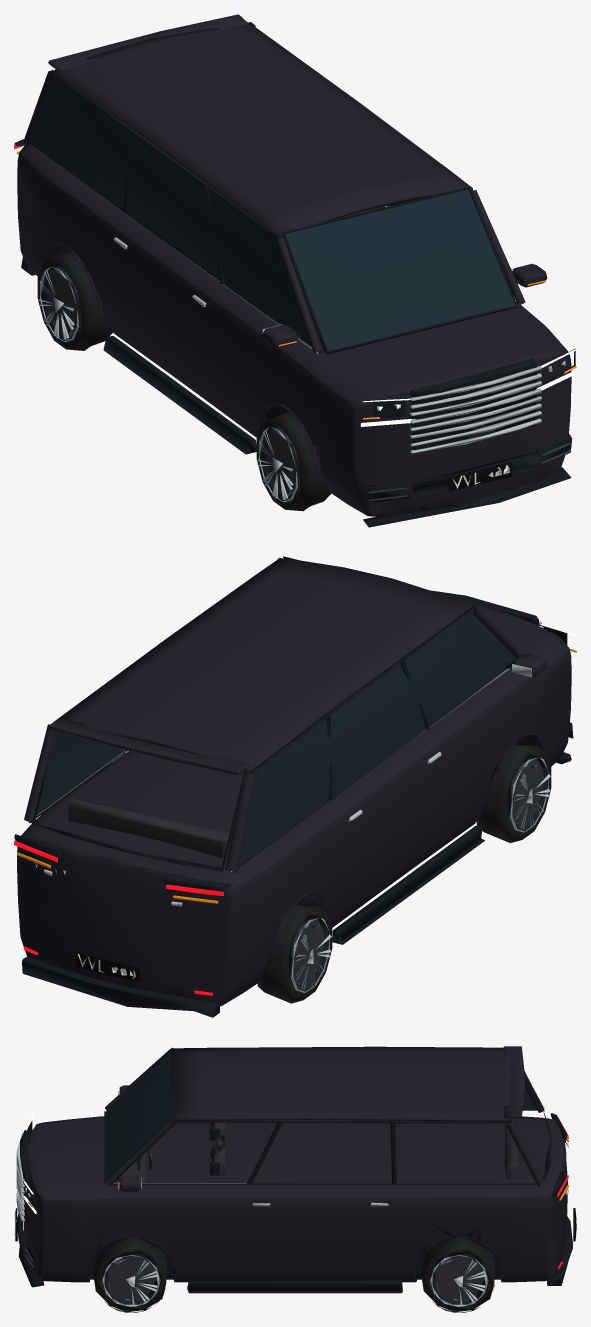
File: vellfire-far.glb
3 renders of one model, top to bottom at view 1: azimuth 30°, elevation 25°; view 2: azimuth 150°, elevation 25°; view 3: azimuth 270°, elevation 25°, orthographic. The views are drawn at different scales.
Parts seen in each view (by area): view 1: chassis.001__Automotive clearcoat, chassis.001__Solar glass, chassis.001__Satin black trim, chassis.001__Machined aluminium, wheel_RL.001__Tyre rubber, wheel_FL.001__Tyre rubber, wheel_RL.001__Graphite alloy, wheel_FL.001__Graphite alloy, wheel_FL.001__Machined aluminium, wheel_RL.001__Machined aluminium, chassis.001__Black registration plate, chassis.001__White LED optics; view 2: chassis.001__Automotive clearcoat, chassis.001__Solar glass, chassis.001__Satin black trim, chassis.001__Charcoal upholstery, wheel_FL.001__Tyre rubber, wheel_RL.001__Tyre rubber, wheel_RL.001__Graphite alloy, wheel_FL.001__Graphite alloy, chassis.001__Black registration plate, wheel_FL.001__Machined aluminium, wheel_RL.001__Machined aluminium, chassis.001__Red LED optics (+1 smaller); view 3: chassis.001__Automotive clearcoat, chassis.001__Satin black trim, chassis.001__Solar glass, wheel_FR.001__Tyre rubber, wheel_RR.001__Tyre rubber, wheel_RR.001__Graphite alloy, wheel_FR.001__Graphite alloy, chassis.001__Charcoal upholstery, chassis.001__Machined aluminium, wheel_RR.001__Machined aluminium, wheel_FR.001__Machined aluminium.
Part boxes in pixels (bbox=[...]): chassis.001__Automotive clearcoat: bbox=[17, 14, 571, 516]; chassis.001__Solar glass: bbox=[32, 76, 515, 350]; chassis.001__Satin black trim: bbox=[14, 68, 575, 527]; chassis.001__Machined aluminium: bbox=[113, 205, 565, 453]; wheel_RL.001__Tyre rubber: bbox=[37, 252, 113, 350]; wheel_FL.001__Tyre rubber: bbox=[256, 411, 331, 511]; wheel_RL.001__Graphite alloy: bbox=[47, 268, 80, 336]; wheel_FL.001__Graphite alloy: bbox=[266, 428, 299, 496]; wheel_FL.001__Machined aluminium: bbox=[257, 427, 297, 502]; wheel_RL.001__Machined aluminium: bbox=[38, 267, 78, 341]; chassis.001__Black registration plate: bbox=[448, 461, 512, 491]; chassis.001__White LED optics: bbox=[360, 349, 575, 426]; chassis.001__Automotive clearcoat: bbox=[17, 558, 571, 1006]; chassis.001__Solar glass: bbox=[37, 610, 515, 864]; chassis.001__Satin black trim: bbox=[14, 556, 573, 1017]; chassis.001__Charcoal upholstery: bbox=[68, 646, 420, 858]; wheel_FL.001__Tyre rubber: bbox=[476, 744, 551, 843]; wheel_RL.001__Tyre rubber: bbox=[257, 904, 332, 1003]; wheel_RL.001__Graphite alloy: bbox=[291, 919, 324, 987]; wheel_FL.001__Graphite alloy: bbox=[511, 758, 543, 826]; chassis.001__Black registration plate: bbox=[76, 951, 140, 982]; wheel_FL.001__Machined aluminium: bbox=[510, 757, 550, 832]; wheel_RL.001__Machined aluminium: bbox=[291, 918, 331, 992]; chassis.001__Red LED optics: bbox=[14, 840, 224, 995]; chassis.001__Automotive clearcoat: bbox=[24, 1046, 567, 1282]; chassis.001__Satin black trim: bbox=[16, 1047, 572, 1293]; chassis.001__Solar glass: bbox=[105, 1050, 536, 1179]; wheel_FR.001__Tyre rubber: bbox=[93, 1237, 167, 1312]; wheel_RR.001__Tyre rubber: bbox=[421, 1237, 495, 1312]; wheel_RR.001__Graphite alloy: bbox=[435, 1254, 484, 1301]; wheel_FR.001__Graphite alloy: bbox=[107, 1254, 156, 1301]; chassis.001__Charcoal upholstery: bbox=[116, 1118, 518, 1180]; chassis.001__Machined aluminium: bbox=[16, 1133, 565, 1221]; wheel_RR.001__Machined aluminium: bbox=[430, 1255, 488, 1306]; wheel_FR.001__Machined aluminium: bbox=[102, 1255, 160, 1306].
Size of the model in its own units: 2.16 by 1.94 by 5.15.
